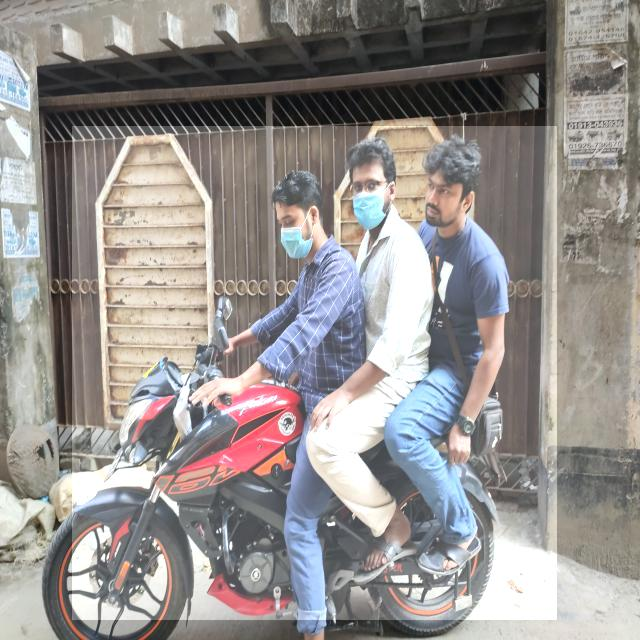Overloading: (72, 126, 557, 620)
